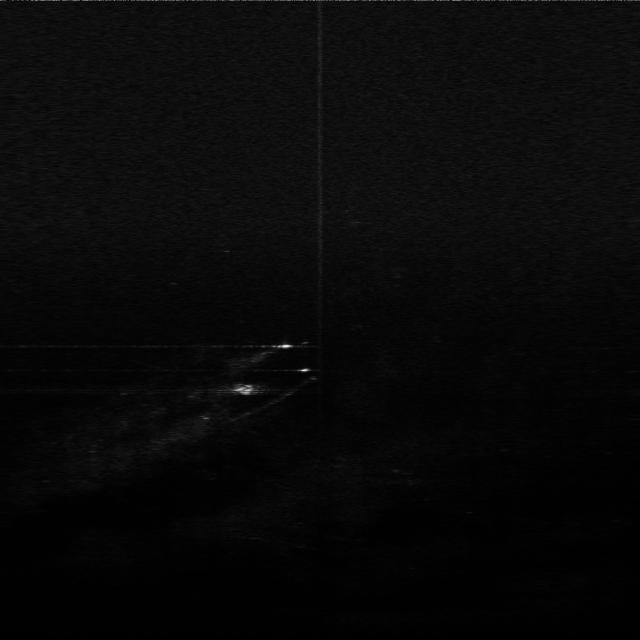rov: (230, 378, 260, 399)
